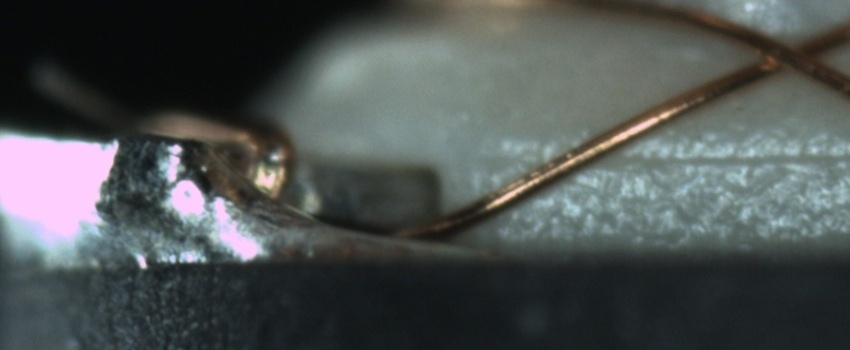CL: (743, 25, 840, 84)
DL: (509, 128, 849, 184)
TE: (119, 109, 299, 221)
